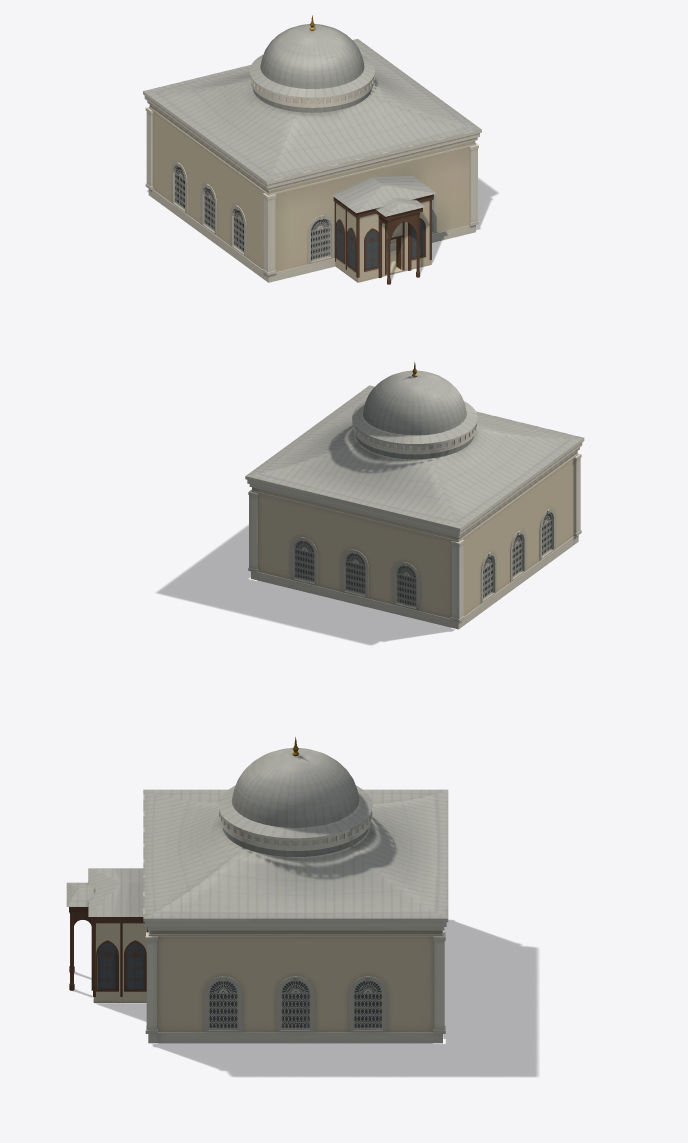
File: orhan-gazi-turbesi_v06_harita_pisik.glb
The picture shows the model from 3 angles, top to bottom: view 1: azimuth 30°, elevation 25°; view 2: azimuth 150°, elevation 25°; view 3: azimuth 270°, elevation 25°; orthographic projection. The views are drawn at different scales.
Visible parts, largest first — view 1: Kubbe, Govde, Giris_Holu, Harita_Golge; view 2: Govde, Kubbe, Harita_Golge; view 3: Kubbe, Govde, Harita_Golge, Giris_Holu.
Part boxes in pixels (x1=…): Kubbe: x1=143, y1=15, x2=481, y2=181; Govde: x1=143, y1=91, x2=481, y2=282; Giris_Holu: x1=332, y1=175, x2=436, y2=284; Harita_Golge: x1=147, y1=178, x2=497, y2=280; Govde: x1=245, y1=438, x2=584, y2=629; Kubbe: x1=246, y1=361, x2=583, y2=528; Harita_Golge: x1=157, y1=525, x2=454, y2=644; Kubbe: x1=143, y1=737, x2=448, y2=918; Govde: x1=143, y1=918, x2=448, y2=1043; Harita_Golge: x1=73, y1=920, x2=537, y2=1076; Giris_Holu: x1=66, y1=868, x2=148, y2=1002.
Bounding box in the file's own units: 31.86 × 15.5 × 37.86.
Materials: 2 (2 with a texture image).
